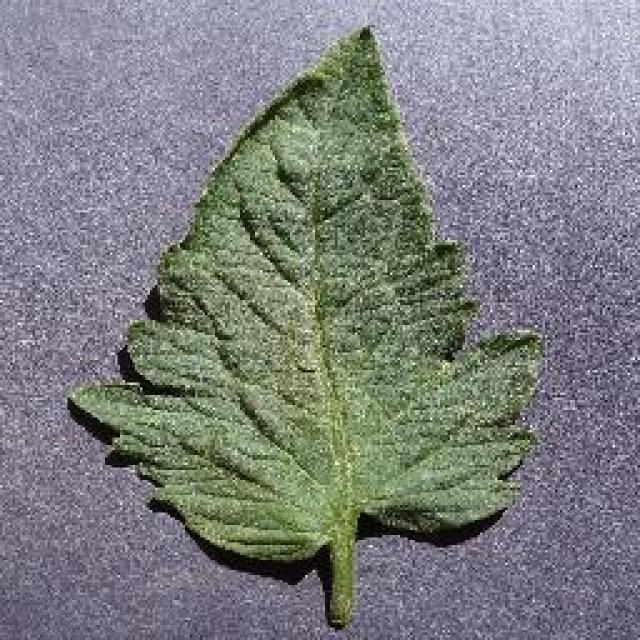Tomato healthy leaf: (89, 27, 539, 605)
